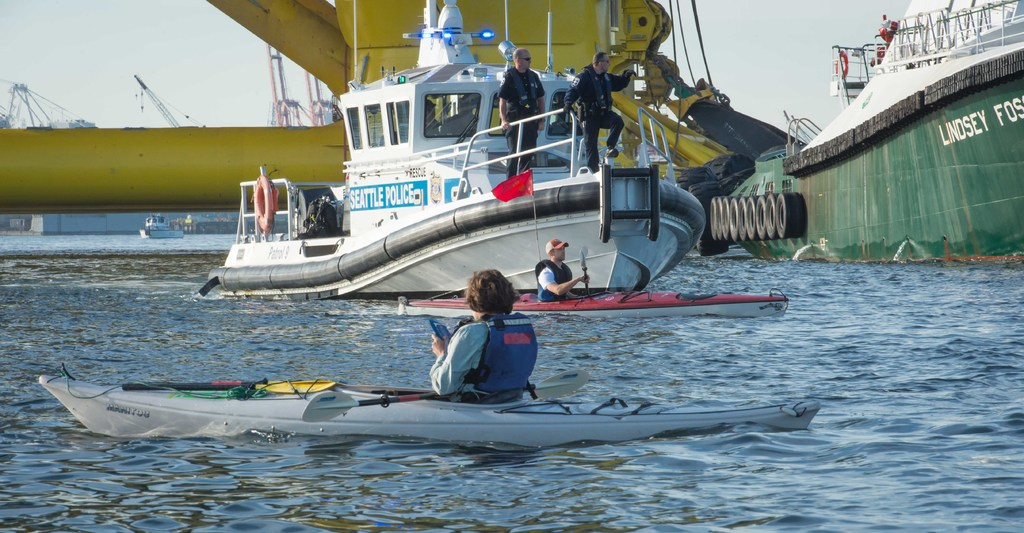boat: (166, 9, 705, 330), (708, 1, 1024, 284)
